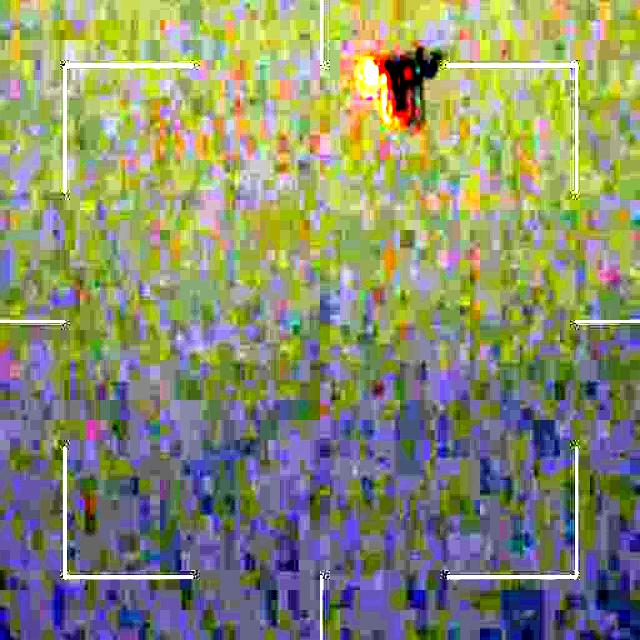bird: (355, 39, 445, 126)
